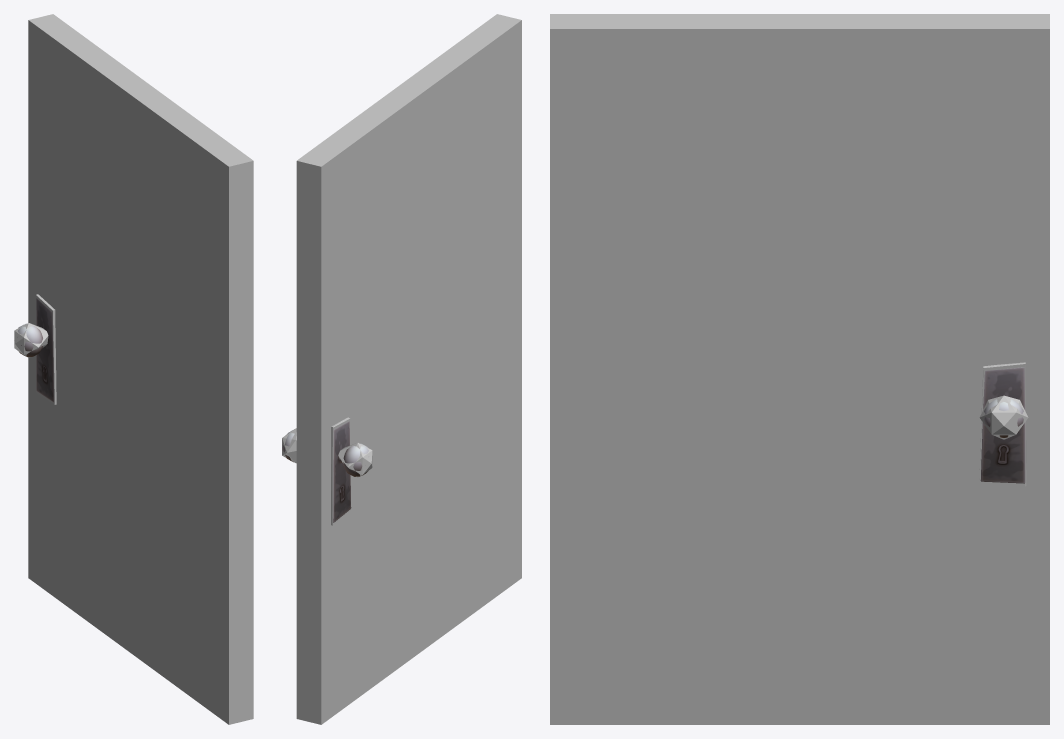
The model's file is SM_PropDoor01TypeA.fbx.
The picture shows the model from 3 angles, left to right: view 1: azimuth 30°, elevation 25°; view 2: azimuth 150°, elevation 25°; view 3: azimuth 270°, elevation 25°; orthographic projection. The views are drawn at different scales.
Parts seen in each view (by area): view 1: SM_PropDoor01TypeA_ConvexHulls, SM_PropDoor01TypeA; view 2: SM_PropDoor01TypeA_ConvexHulls, SM_PropDoor01TypeA; view 3: SM_PropDoor01TypeA_ConvexHulls, SM_PropDoor01TypeA.
Boxes of the visible parts, left/top/right/bottom form: SM_PropDoor01TypeA_ConvexHulls: left=14, top=14, right=253, bottom=724; SM_PropDoor01TypeA: left=14, top=298, right=54, bottom=402; SM_PropDoor01TypeA_ConvexHulls: left=282, top=14, right=521, bottom=724; SM_PropDoor01TypeA: left=282, top=421, right=368, bottom=522; SM_PropDoor01TypeA_ConvexHulls: left=550, top=14, right=1049, bottom=724; SM_PropDoor01TypeA: left=980, top=367, right=1025, bottom=483.
Size of the model in its own units: 36.08 by 141 by 217.
Materials: 2 (1 with a texture image).
